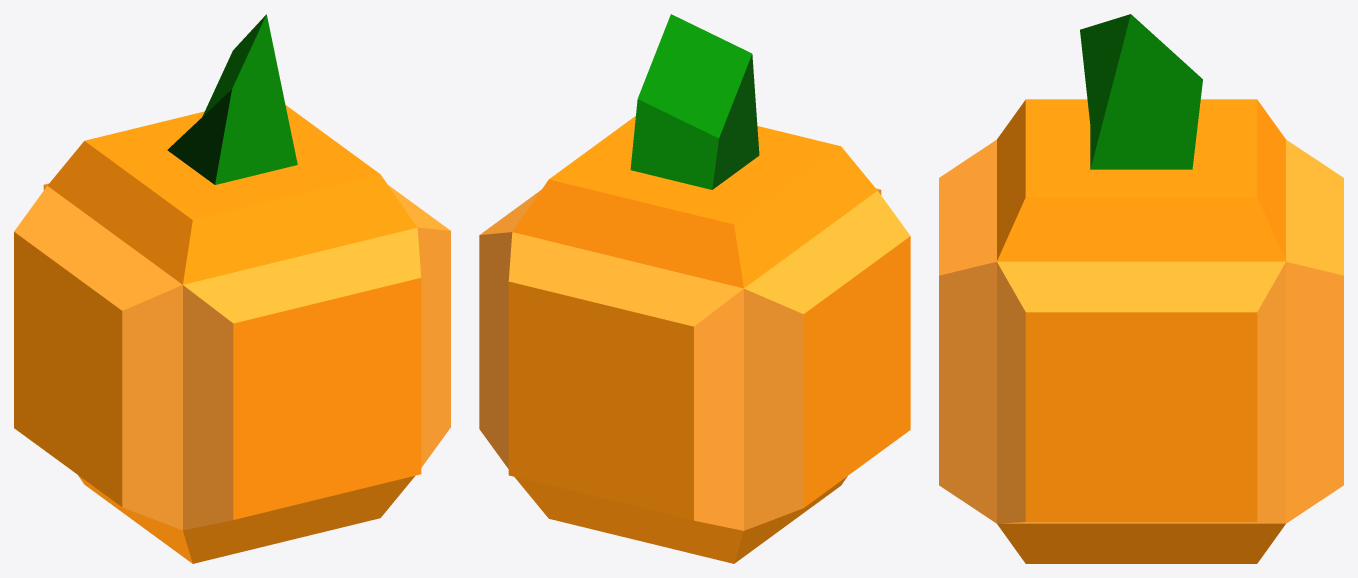
File: OrangeModel.fbx
The picture shows the model from 3 angles, left to right: view 1: azimuth 30°, elevation 25°; view 2: azimuth 150°, elevation 25°; view 3: azimuth 270°, elevation 25°; orthographic projection. The views are drawn at different scales.
Parts seen in each view (by area): view 1: Orange; view 2: Orange; view 3: Orange.
Boxes of the visible parts, bbox=[...] form: Orange: bbox=[14, 14, 450, 563]; Orange: bbox=[479, 14, 910, 563]; Orange: bbox=[939, 14, 1343, 563].
Size of the model in its own units: 65.67 by 65.67 by 92.41.
